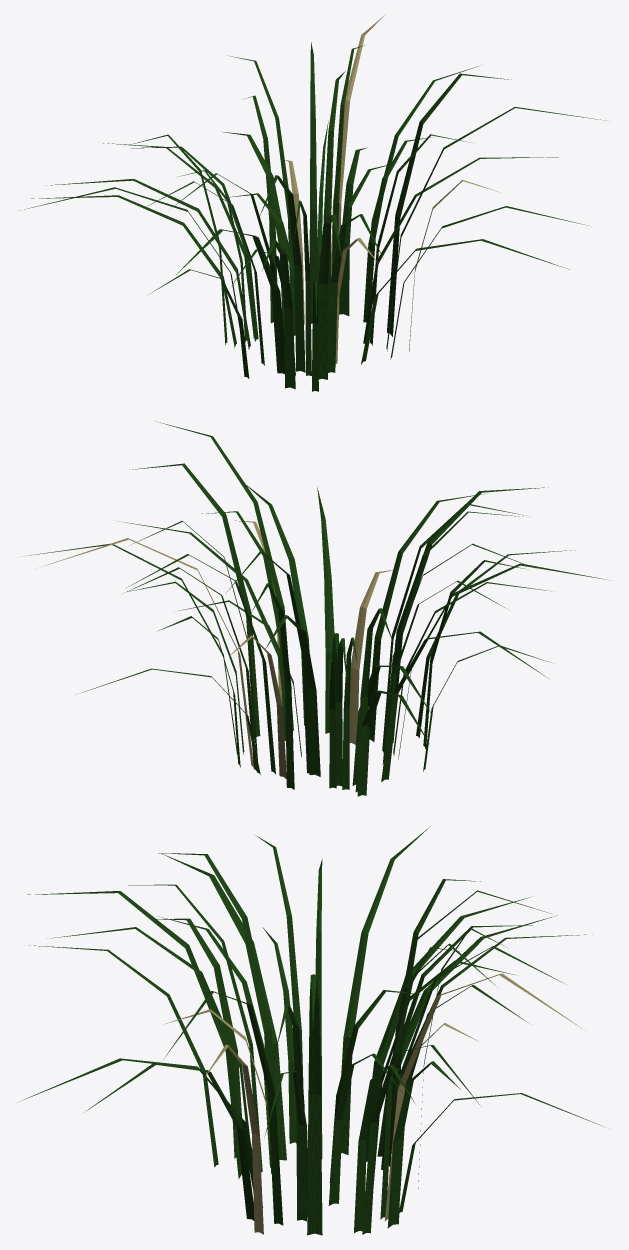
File: Woodland_Grass_Tuft_02_LOD1.fbx
The picture shows the model from 3 angles, top to bottom: view 1: azimuth 30°, elevation 25°; view 2: azimuth 150°, elevation 25°; view 3: azimuth 270°, elevation 25°; orthographic projection. The views are drawn at different scales.
Parts seen in each view (by area): view 1: Woodland_Grass_Tuft_02_LOD1_Foliage; view 2: Woodland_Grass_Tuft_02_LOD1_Foliage; view 3: Woodland_Grass_Tuft_02_LOD1_Foliage.
Boxes of the visible parts, left/top/right/bottom form: Woodland_Grass_Tuft_02_LOD1_Foliage: left=21, top=14, right=609, bottom=391; Woodland_Grass_Tuft_02_LOD1_Foliage: left=21, top=421, right=609, bottom=796; Woodland_Grass_Tuft_02_LOD1_Foliage: left=17, top=826, right=610, bottom=1235.
Size of the model in its own units: 109 by 51.7 by 92.6.
2 materials, 1 textured.
